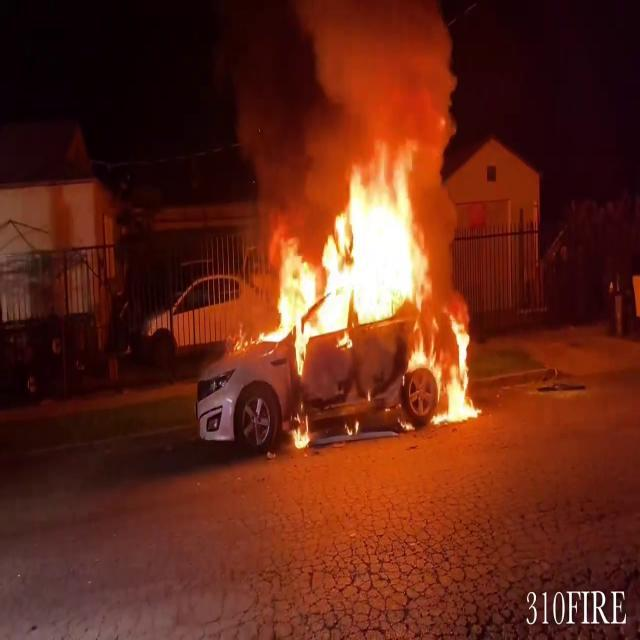Fire: (256, 128, 442, 364), (412, 296, 491, 446), (290, 407, 314, 453)
Smoke: (288, 0, 464, 168)
